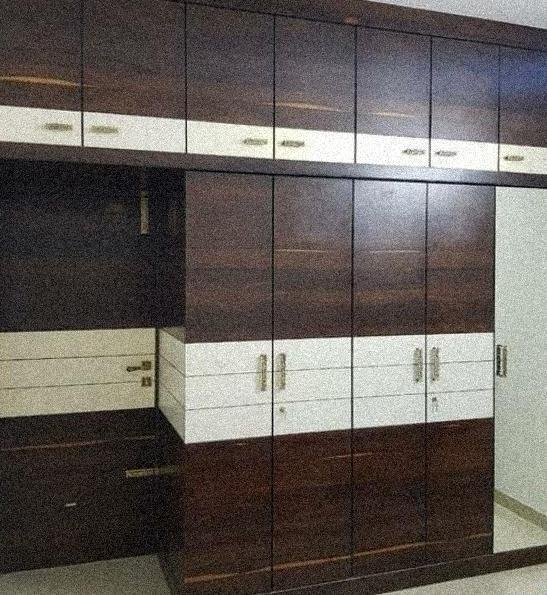Armario: (0, 0, 547, 592)
